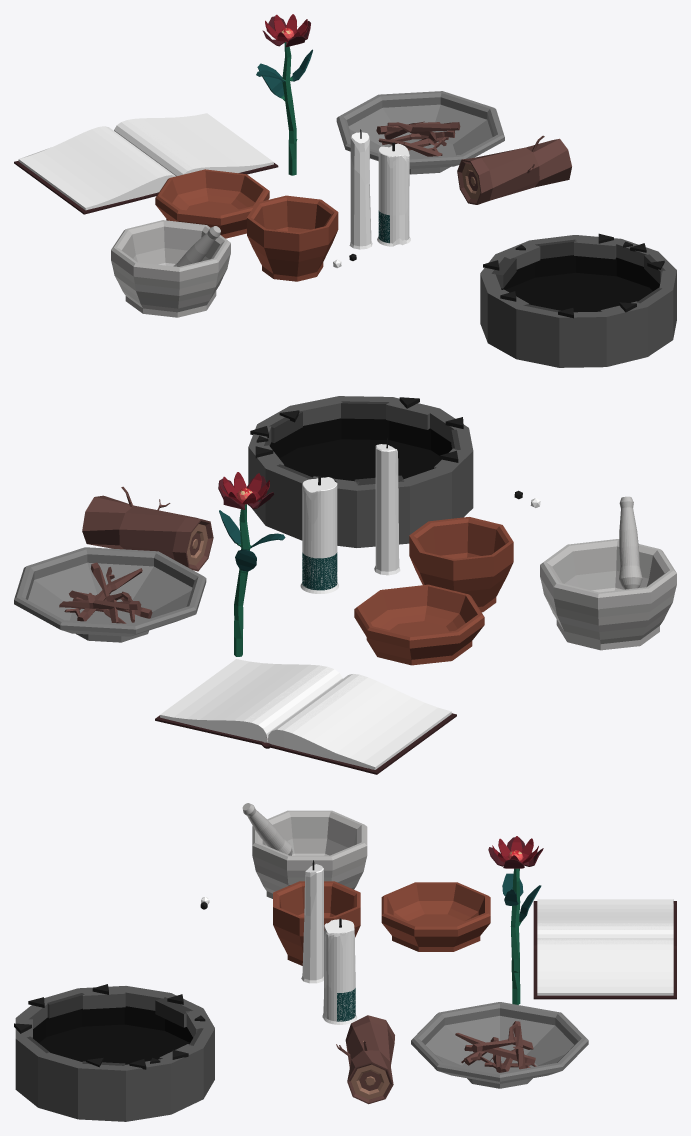
Rendered from AR_assests.fbx.
3 renders of one model, top to bottom at view 1: azimuth 30°, elevation 25°; view 2: azimuth 150°, elevation 25°; view 3: azimuth 270°, elevation 25°, orthographic. The views are drawn at different scales.
Visible parts, largest first — view 1: Hole, Book, Mortar, Cylinder, Bowl High, Bowl Low, Wood, Candle, Flower, Candle2; view 2: Hole, Book, Cylinder, Mortar, Bowl Low, Bowl High, Wood, Candle, Flower, Candle2; view 3: Hole, Book, Cylinder, Mortar, Bowl Low, Wood, Bowl High, Candle, Flower, Candle2.
Part boxes in pixels (left/top/right/bottom): Hole: left=480, top=233, right=676, bottom=367; Book: left=14, top=113, right=278, bottom=214; Mortar: left=111, top=220, right=230, bottom=317; Cylinder: left=336, top=91, right=504, bottom=174; Bowl High: left=247, top=195, right=338, bottom=281; Bowl Low: left=155, top=169, right=269, bottom=238; Wood: left=457, top=135, right=571, bottom=204; Candle: left=377, top=142, right=410, bottom=246; Flower: left=256, top=14, right=312, bottom=175; Candle2: left=349, top=129, right=372, bottom=249; Hole: left=248, top=396, right=473, bottom=547; Book: left=155, top=659, right=456, bottom=774; Cylinder: left=14, top=547, right=206, bottom=642; Mortar: left=540, top=496, right=676, bottom=650; Bowl Low: left=354, top=584, right=484, bottom=665; Bowl High: left=409, top=517, right=513, bottom=612; Wood: left=82, top=486, right=213, bottom=571; Candle: left=300, top=475, right=338, bottom=593; Flower: left=218, top=472, right=285, bottom=656; Candle2: left=374, top=438, right=400, bottom=575; Hole: left=14, top=984, right=214, bottom=1121; Book: left=533, top=899, right=676, bottom=999; Cylinder: left=411, top=1002, right=588, bottom=1088; Mortar: left=242, top=803, right=367, bottom=898; Bowl Low: left=381, top=882, right=490, bottom=951; Wood: left=336, top=1015, right=394, bottom=1104; Bowl High: left=273, top=881, right=360, bottom=965; Candle: left=322, top=918, right=357, bottom=1024; Flower: left=488, top=836, right=543, bottom=1004; Candle2: left=301, top=860, right=323, bottom=983.
Bounding box in the file's own units: 1248 × 466 × 1500.
